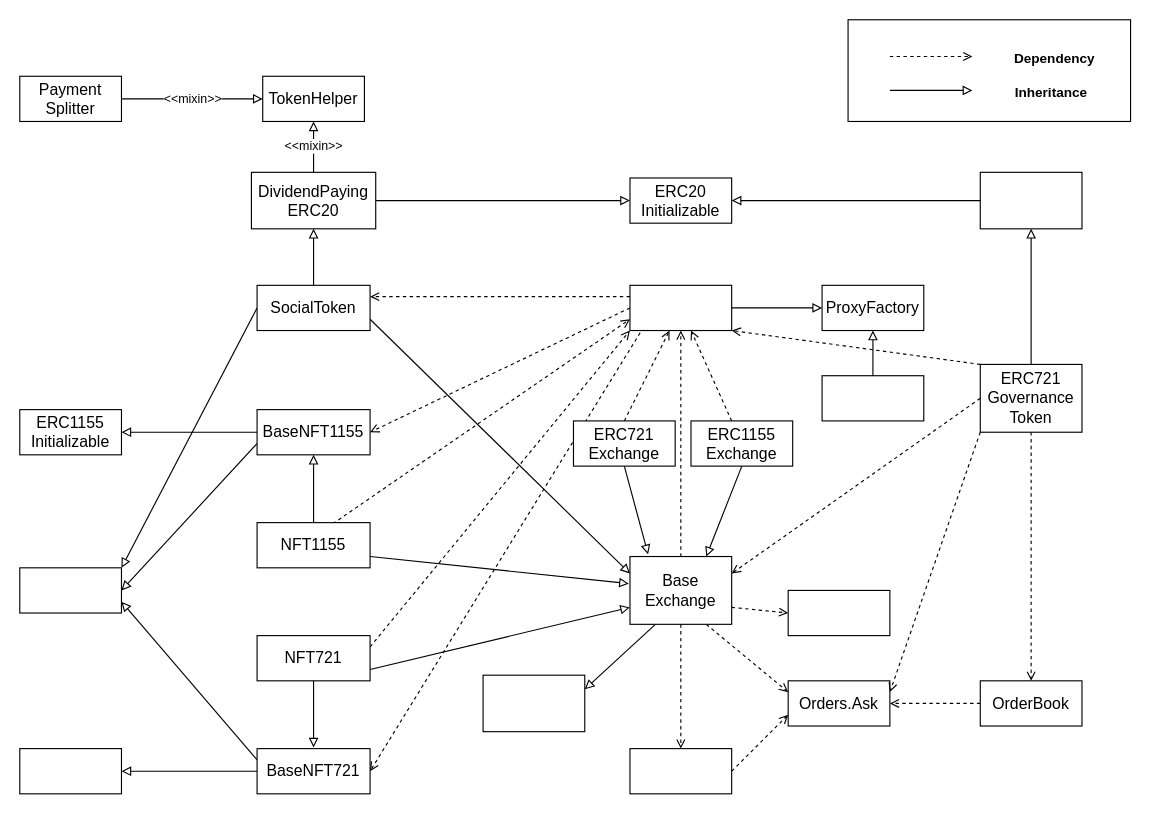
This 1150x814 diagram has some shape labels left out. Here are the shapes that lost their labels. From the top down, the centre of each, then its label:
At (1030,200): "ERC20 Snapshot Initializable".
At (680,307): "TokenFactory".
At (872,398): "ERC721 Liquidator".
At (70,590): "Ownable Initializable".
At (838,612): "Orders.Bid".
At (533,703): "Reentrancy Guard Initializable".
At (70,770): "ERC721 Initializable".
At (680,770): "strategies/*".
